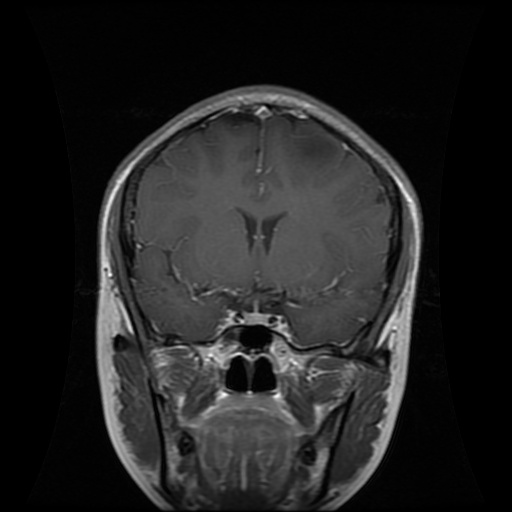glioma: (285, 119, 342, 176)
